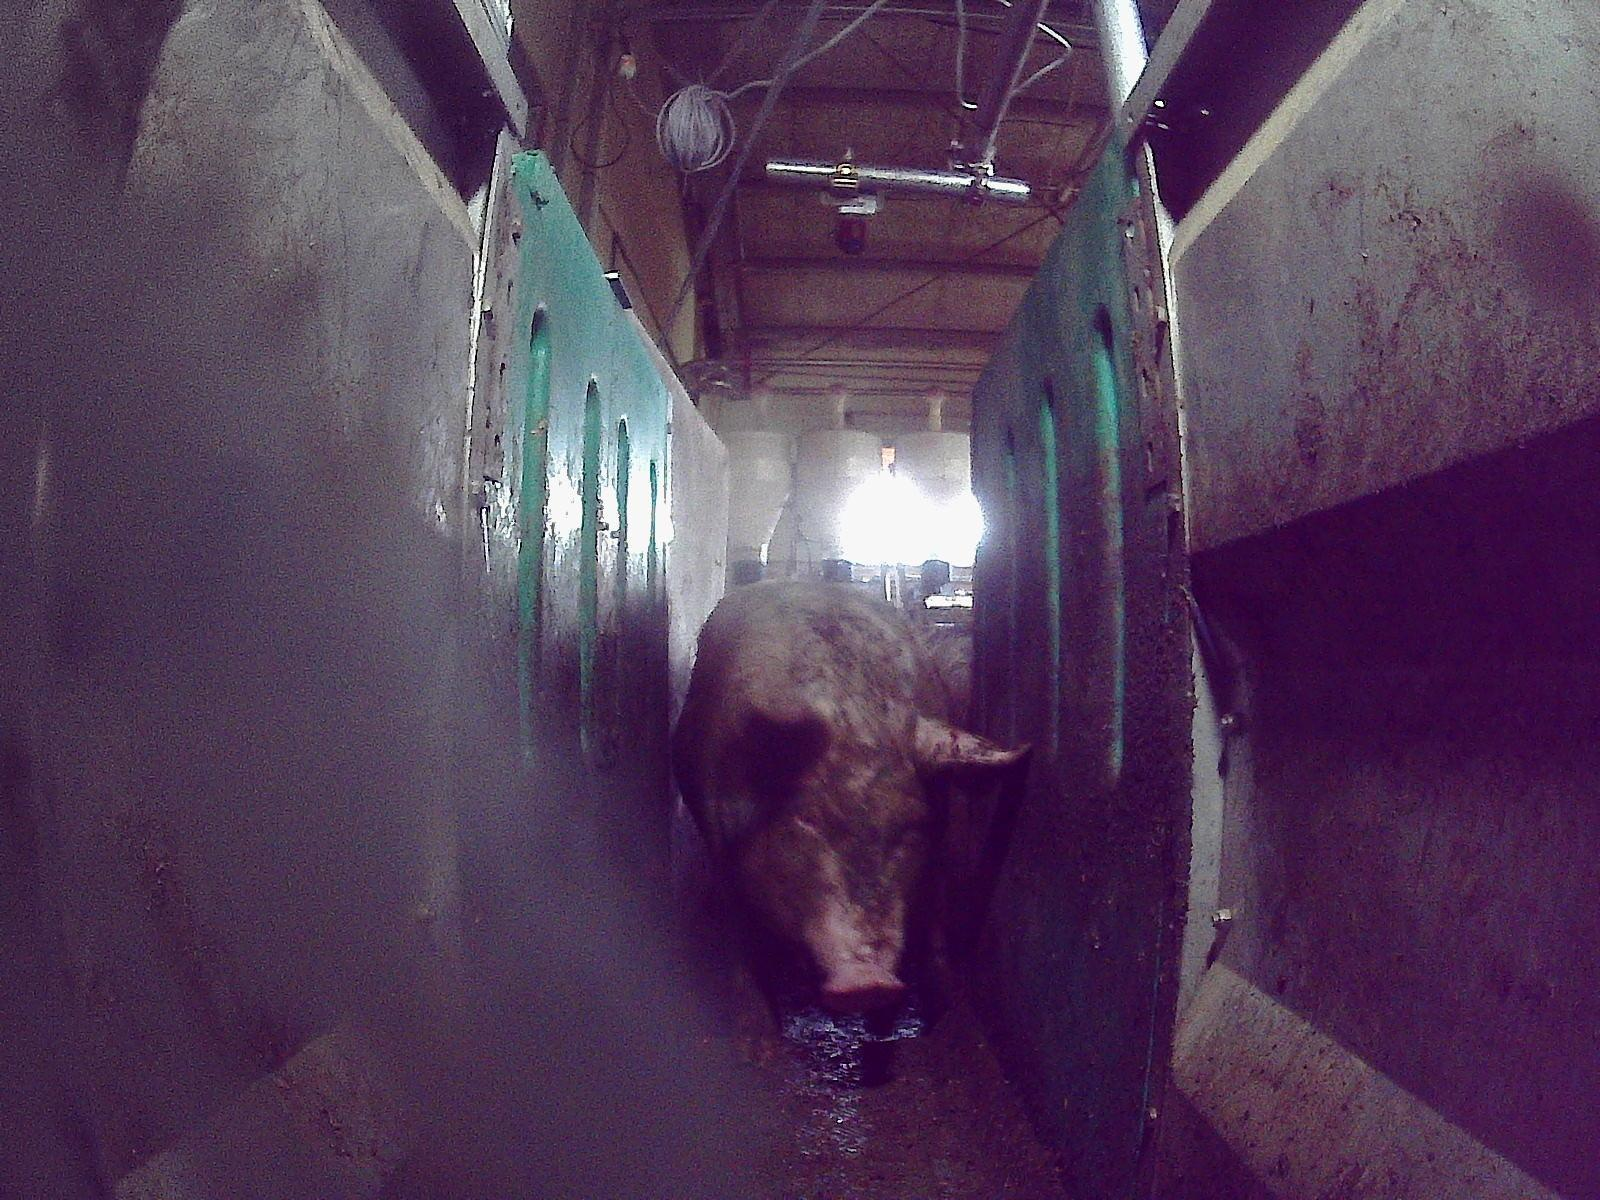Face: (726, 702, 928, 1008)
